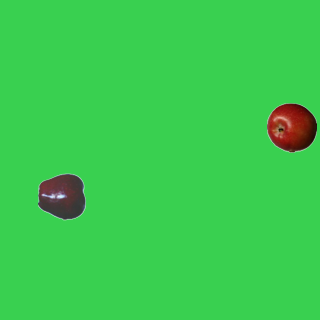Apple Braeburn: (266, 102, 316, 152)
Apple Red Delicious: (37, 171, 87, 221)
